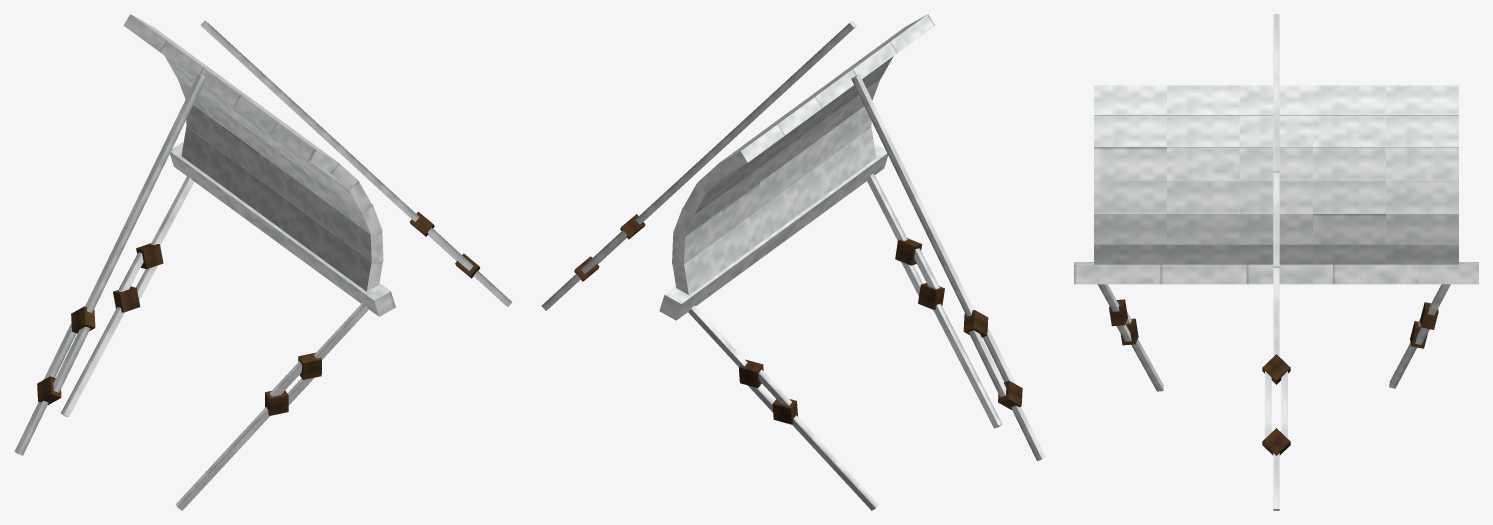
File: cog_segel_1_3.obj
3 views of the same model, side by side, from view 1: azimuth 30°, elevation 25°; view 2: azimuth 150°, elevation 25°; view 3: azimuth 270°, elevation 25° (orthographic). The views are drawn at different scales.
Parts seen in each view (by area): view 1: cube; view 2: cube; view 3: cube.
Boxes of the visible parts, <box> form: cube: <box>14,14,512,510</box>; cube: <box>541,14,1045,510</box>; cube: <box>1074,14,1478,510</box>.
Bounding box in the file's own units: 5.3 × 4.35 × 3.81.
